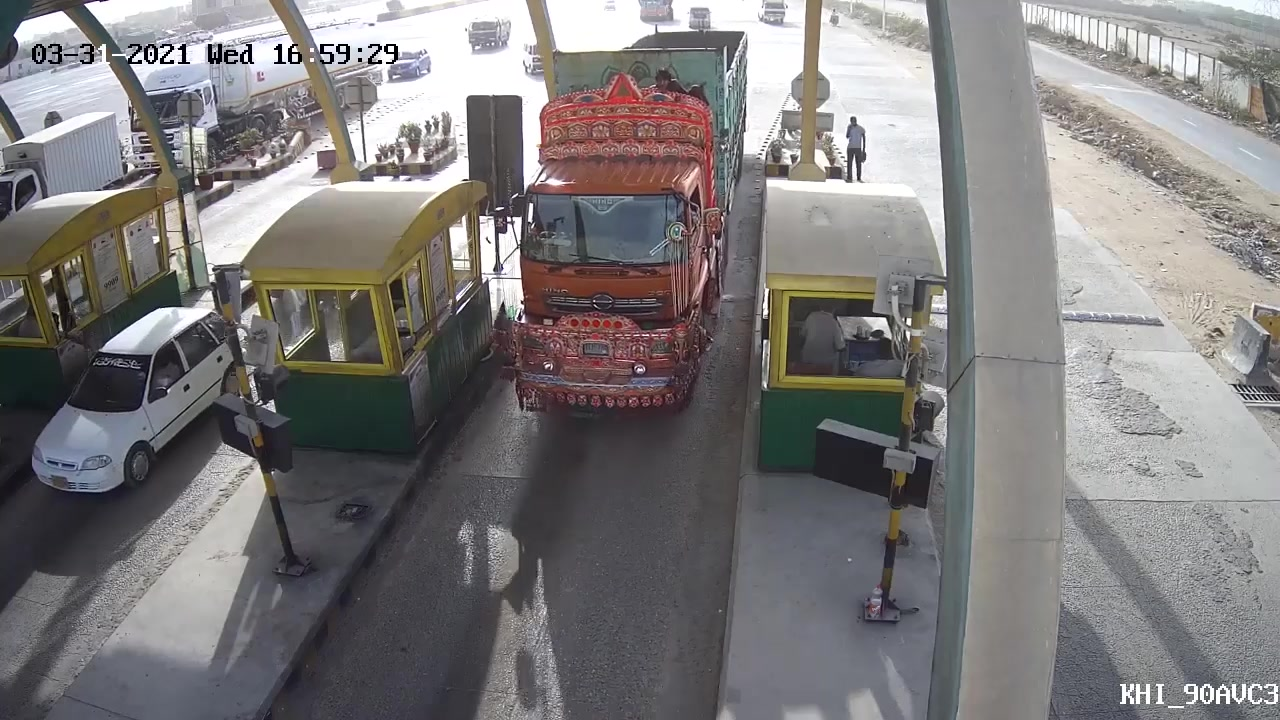F5: (511, 22, 758, 424)
